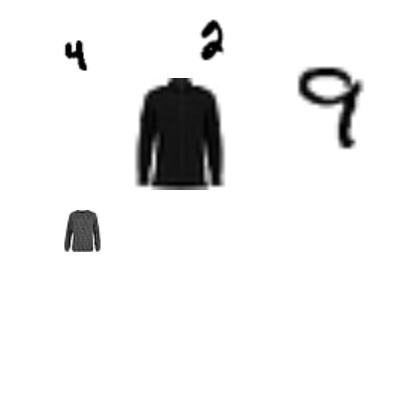2: (184, 12, 240, 68)
4: (55, 33, 97, 75)
9: (275, 40, 387, 152)
Shirt: (124, 78, 236, 190), (60, 210, 102, 252)
